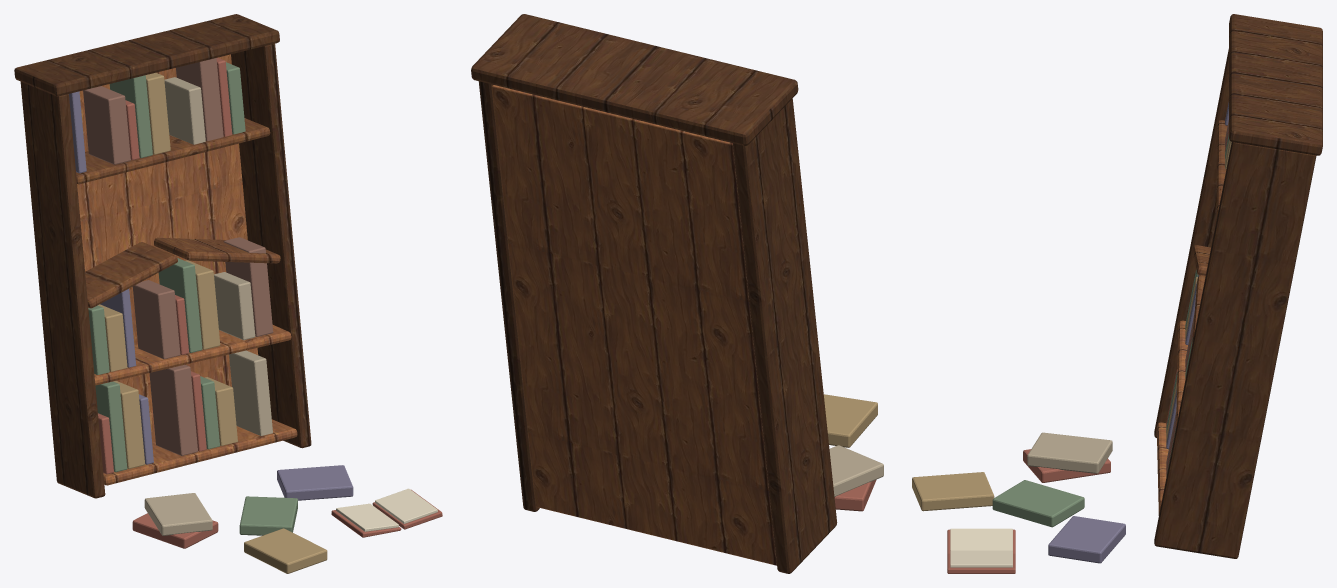
Rendered from bookshelf_collapsed.glb.
3 views of the same model, side by side, from view 1: azimuth 30°, elevation 25°; view 2: azimuth 150°, elevation 25°; view 3: azimuth 270°, elevation 25° (orthographic). The views are drawn at different scales.
Parts seen in each view (by area): view 1: model; view 2: model; view 3: model.
Boxes of the visible parts, x1,y1,x2,y2 form: model: (14, 14, 442, 573); model: (471, 14, 883, 573); model: (912, 14, 1322, 573).
Bounding box in the file's own units: 1.12 × 1.67 × 1.44.
Materials: 11 (3 with a texture image).
